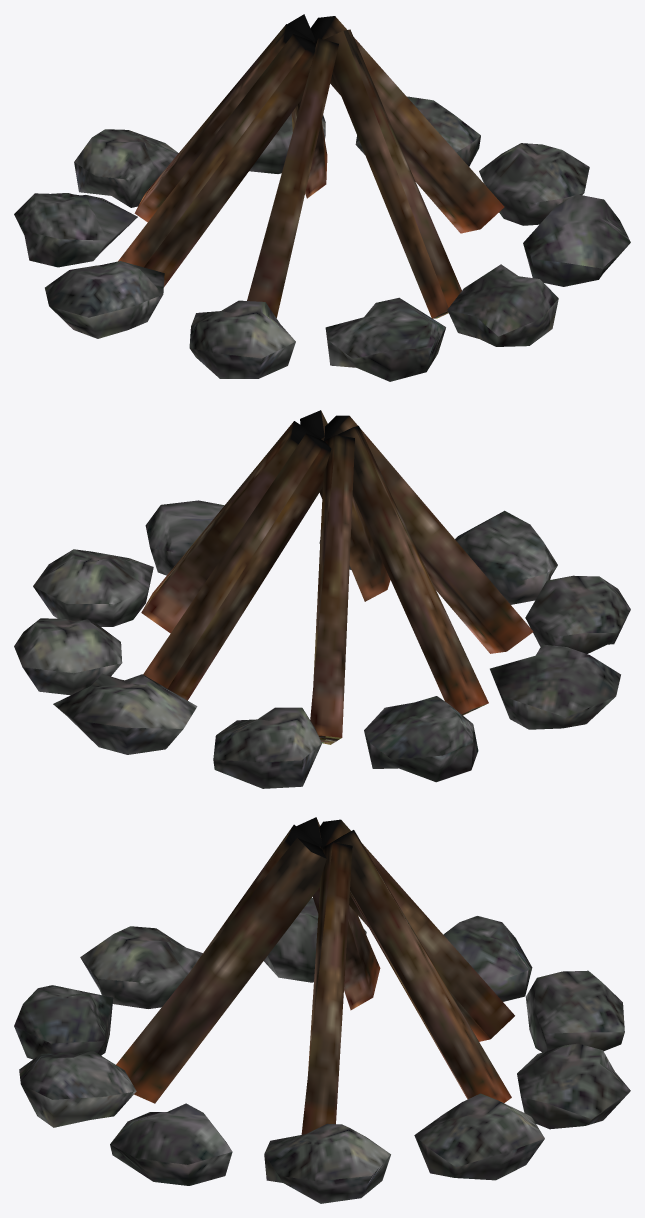
The model's file is campfire.dae.
3 views of the same model, one above another, from view 1: azimuth 30°, elevation 25°; view 2: azimuth 150°, elevation 25°; view 3: azimuth 270°, elevation 25° (orthographic). The views are drawn at different scales.
Parts seen in each view (by area): view 1: Cube; view 2: Cube; view 3: Cube.
Part boxes in pixels (x1=…): Cube: x1=14, y1=14, x2=630, y2=381; Cube: x1=14, y1=410, x2=630, y2=788; Cube: x1=14, y1=817, x2=630, y2=1203.
Size of the model in its own units: 5.06 by 4.75 by 2.15.
